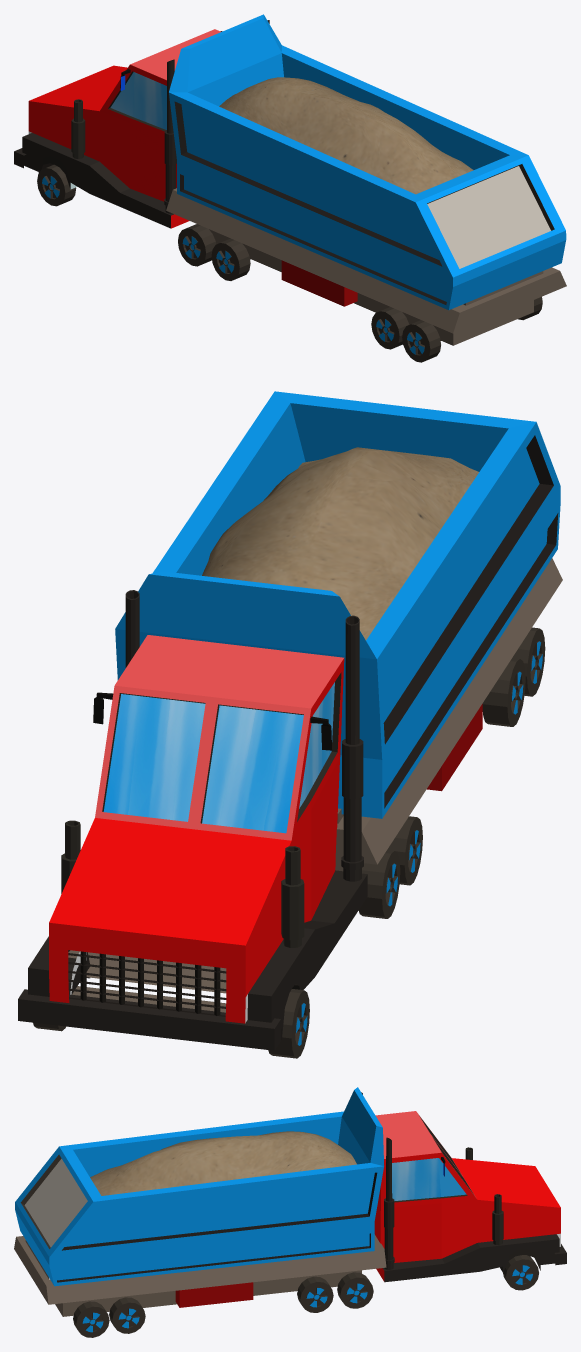
The model's file is Truck2.fbx.
3 views of the same model, one above another, from view 1: azimuth 30°, elevation 25°; view 2: azimuth 150°, elevation 25°; view 3: azimuth 270°, elevation 25° (orthographic). The views are drawn at different scales.
Visible parts, largest first — view 1: Truck Rare1.002, Truck Type 4.001, TruckSand.002, Wheel_Rare1.L.045, Wheel_Rare1.L.046, Wheel_Rare1.L.043, Wheel_Rare1.L.032, Wheel_Rare1.L.044; view 2: Truck Type 4.001, Truck Rare1.002, TruckSand.002, Plane.028, Wheel_Rare1.L.032, Wheel_Rare1.L.043, Wheel_Rare1.L.044, Wheel_Rare1.L.045, Wheel_Rare1.L.046; view 3: Truck Rare1.002, Truck Type 4.001, TruckSand.002, Wheel_Rare1.L.047, Wheel_Rare1.L.048, Wheel_Rare1.L.051, Wheel_Rare1.L.050, Wheel_Rare1.L.049.
Boxes of the visible parts, <box> form: Truck Rare1.002: <box>169,14,566,310</box>; Truck Type 4.001: <box>14,20,566,345</box>; TruckSand.002: <box>219,77,473,194</box>; Wheel_Rare1.L.045: <box>211,238,250,280</box>; Wheel_Rare1.L.046: <box>402,320,440,362</box>; Wheel_Rare1.L.043: <box>178,224,216,266</box>; Wheel_Rare1.L.032: <box>371,307,409,349</box>; Wheel_Rare1.L.044: <box>37,164,76,206</box>; Truck Type 4.001: <box>18,558,562,1050</box>; Truck Rare1.002: <box>115,391,560,818</box>; TruckSand.002: <box>202,447,478,640</box>; Plane.028: <box>68,951,226,1016</box>; Wheel_Rare1.L.032: <box>482,658,525,726</box>; Wheel_Rare1.L.043: <box>358,850,400,918</box>; Wheel_Rare1.L.044: <box>268,989,309,1058</box>; Wheel_Rare1.L.045: <box>387,816,422,885</box>; Wheel_Rare1.L.046: <box>512,627,545,696</box>; Truck Rare1.002: <box>15,1087,383,1286</box>; Truck Type 4.001: <box>14,1092,566,1316</box>; TruckSand.002: <box>90,1131,356,1195</box>; Wheel_Rare1.L.047: <box>109,1297,145,1333</box>; Wheel_Rare1.L.048: <box>337,1272,373,1308</box>; Wheel_Rare1.L.051: <box>73,1301,109,1337</box>; Wheel_Rare1.L.050: <box>297,1276,333,1312</box>; Wheel_Rare1.L.049: <box>503,1255,538,1290</box>.
Bounding box in the file's own units: 1772 × 1255 × 3687.
